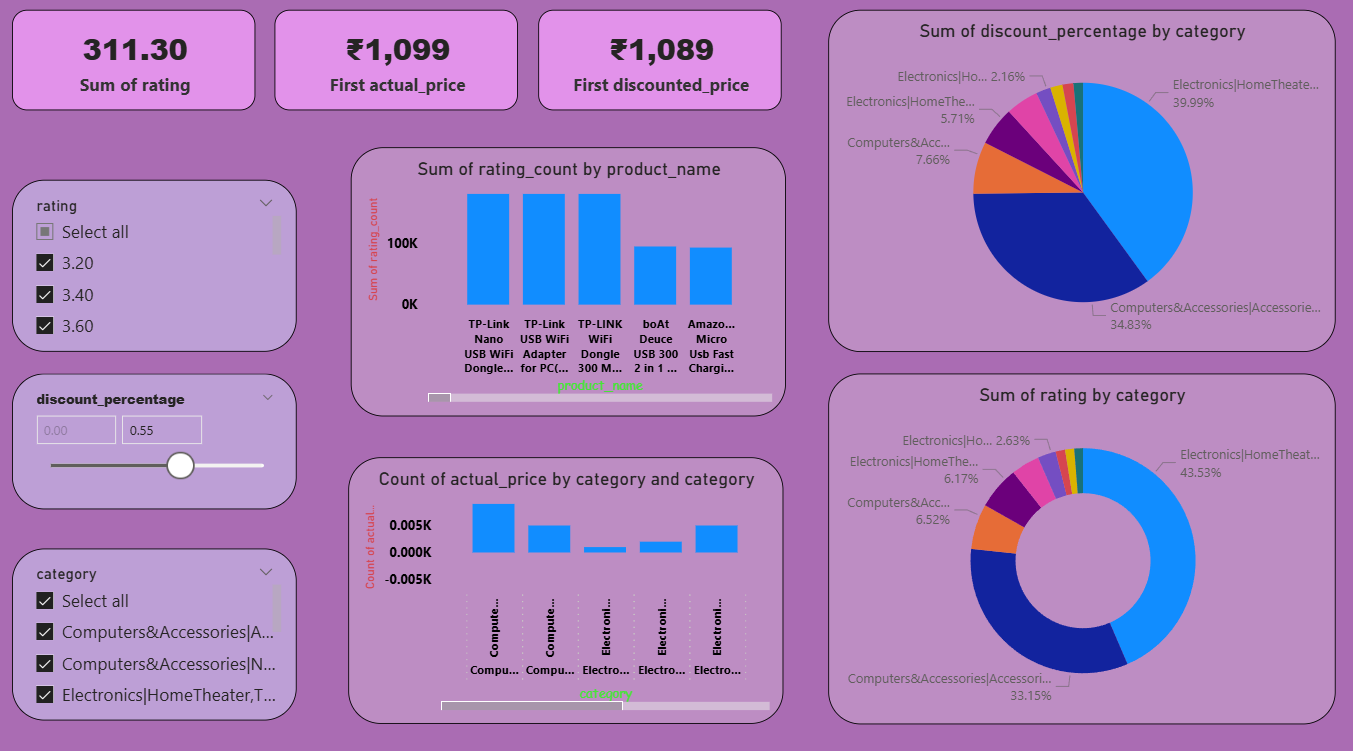

Layout of this report page (visuals, bound fields, positions):
{"tool":"powerbi","page":{"name":"Page 1","canvas":[1280,720],"ordinal":0},"visuals":[{"type":"columnChart","fields":{"Category":["amazon.product_name"],"Y":["Sum(amazon.rating_count)"]},"box":[333.3,150,405,250],"z":0},{"type":"pieChart","fields":{"Category":["amazon.category"],"Y":["Sum(amazon.discount_percentage)"]},"box":[778.3,21.7,471.7,318.3],"z":1000},{"type":"donutChart","fields":{"Category":["amazon.category"],"Y":["Sum(amazon.rating)"]},"box":[778.3,360,471.7,326.7],"z":2000},{"type":"columnChart","fields":{"Category":["amazon.category","amazon.category"],"Y":["CountNonNull(amazon.actual_price)"]},"box":[331.7,438.3,405,248.3],"z":3000},{"type":"card","fields":{"Values":["Sum(amazon.rating)"]},"box":[18.3,21.7,226.7,93.3],"z":4000},{"type":"card","fields":{"Values":["Min(amazon.actual_price)"]},"box":[263.3,21.7,226.7,93.3],"z":5000},{"type":"card","fields":{"Values":["Min(amazon.discounted_price)"]},"box":[508.3,21.7,226.7,93.3],"z":6000},{"type":"slicer","fields":{"Values":["amazon.rating"]},"box":[18.3,180,265,160],"z":7000},{"type":"slicer","fields":{"Values":["amazon.discount_percentage"]},"box":[18.3,360,265,126.7],"z":8000},{"type":"slicer","fields":{"Values":["amazon.category"]},"box":[18.3,523.3,265,160],"z":9000}]}

Visuals, with their boxes in screenshot pixels (x1, y1, x2, y2), scaled from the page's 1280x720 canvas onto the 1353x751 screenshot:
columnChart - amazon.product_name x Sum(amazon.rating_count): 352/156/780/417
pieChart - amazon.category x Sum(amazon.discount_percentage): 823/23/1321/355
donutChart - amazon.category x Sum(amazon.rating): 823/376/1321/716
columnChart - amazon.category x amazon.category: 351/457/779/716
card - Sum(amazon.rating): 19/23/259/120
card - Min(amazon.actual_price): 278/23/518/120
card - Min(amazon.discounted_price): 537/23/777/120
slicer - amazon.rating: 19/188/299/355
slicer - amazon.discount_percentage: 19/376/299/508
slicer - amazon.category: 19/546/299/713
